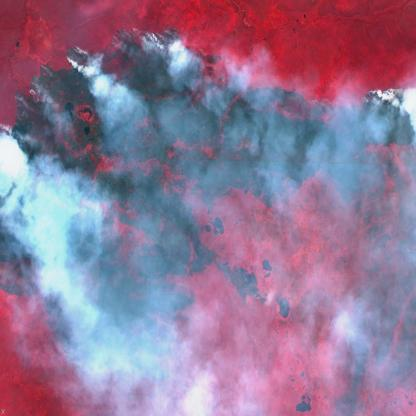fire: (362, 90, 416, 136), (94, 26, 181, 51), (64, 44, 90, 71), (30, 64, 43, 100), (9, 86, 30, 107)
